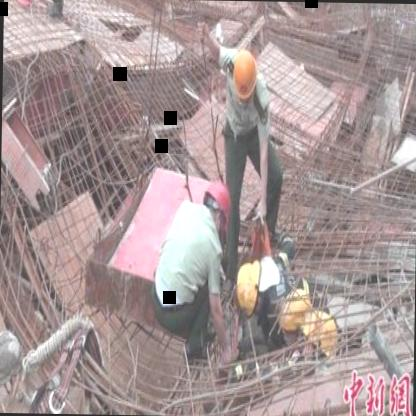helmet: (301, 312, 339, 378), (280, 284, 312, 348), (233, 256, 266, 317), (228, 45, 259, 104), (202, 183, 232, 236)
